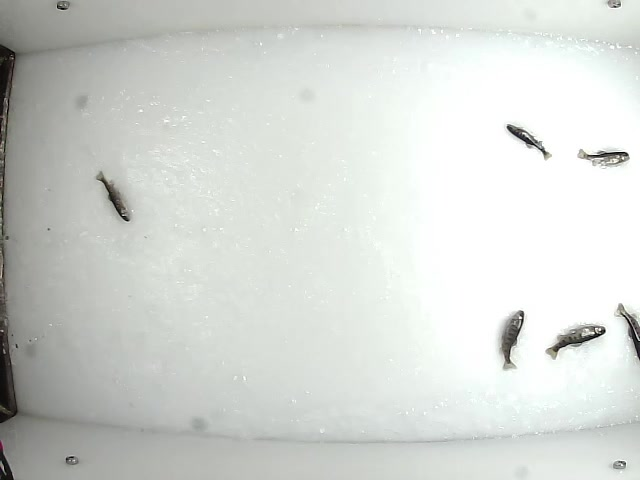fish: (543, 322, 610, 361), (91, 168, 133, 225), (503, 122, 553, 162), (497, 308, 524, 371), (575, 149, 631, 168)
